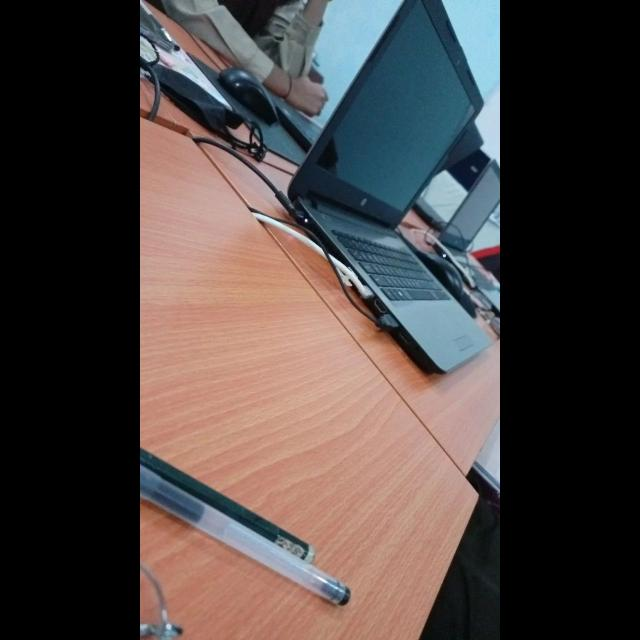laptop: (288, 0, 490, 372), (425, 237, 427, 239)
